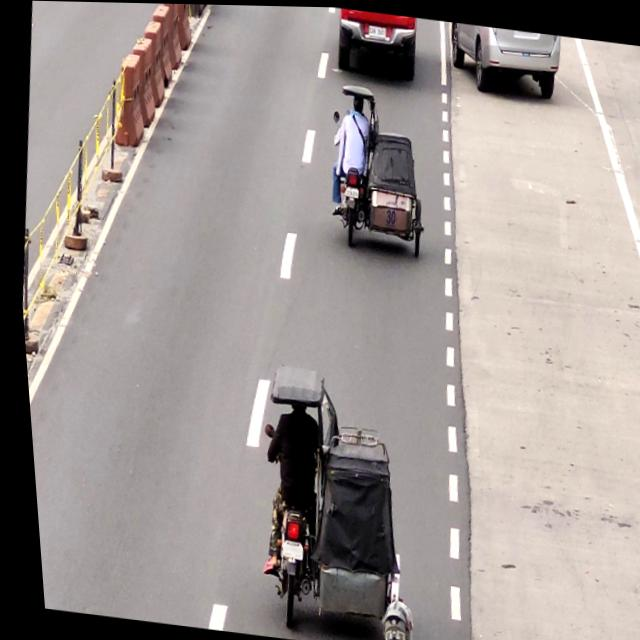Car: (442, 20, 565, 103), (328, 6, 421, 82)
License-Plate: (266, 538, 298, 560), (339, 185, 357, 200)
Tricycle: (237, 363, 414, 627), (318, 83, 436, 257)
